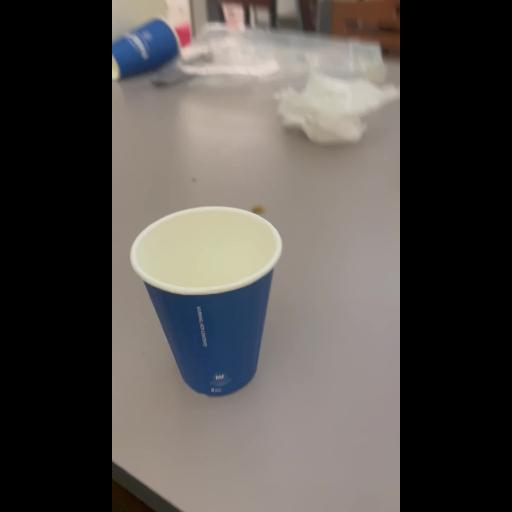lp_paper_cup: (130, 206, 280, 396), (112, 18, 182, 80)
